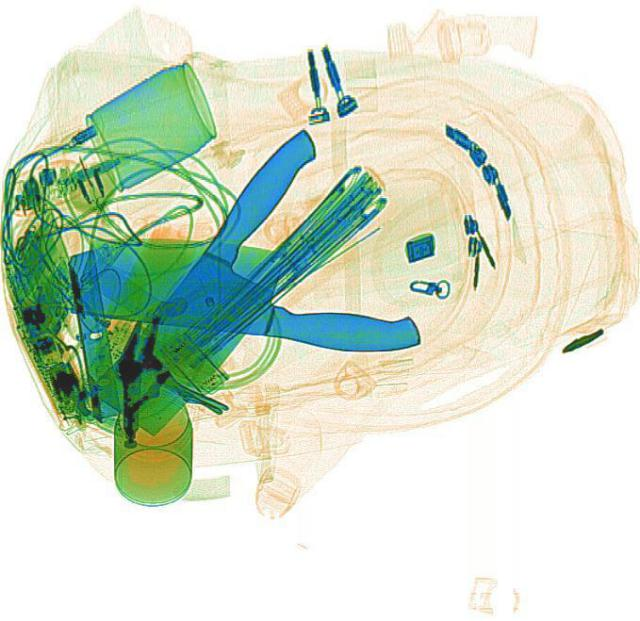Knife: (82, 122, 370, 439), (72, 230, 426, 355)
